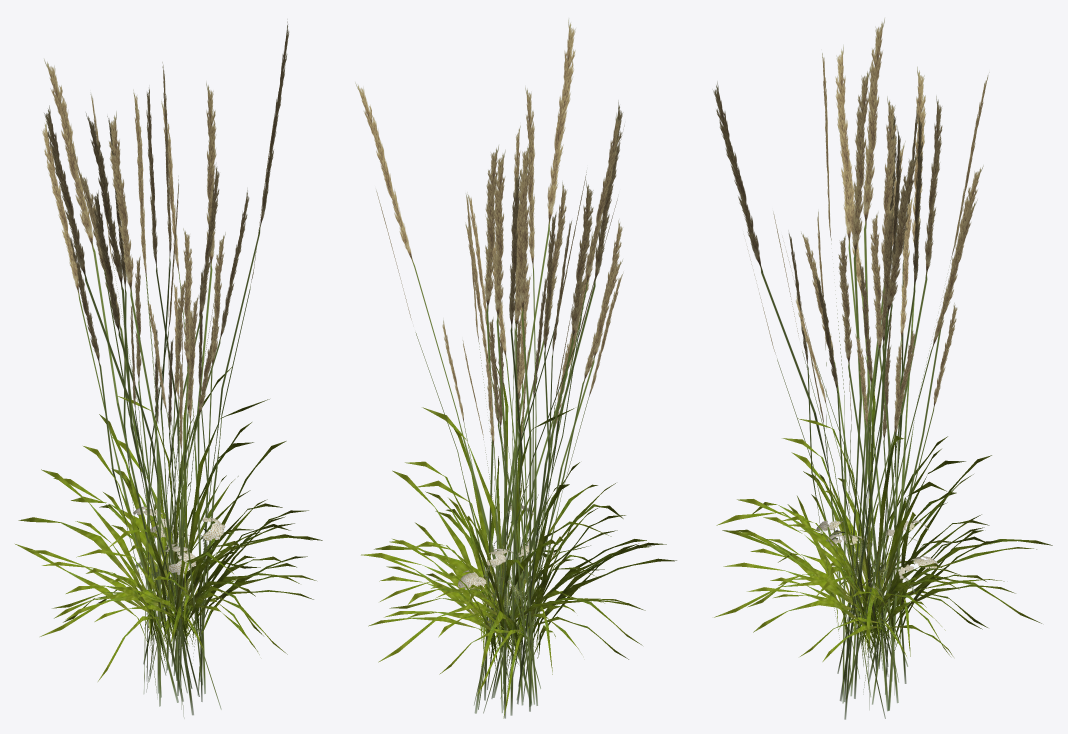
The model's file is vegetation_10.glb.
3 renders of one model, left to right at view 1: azimuth 30°, elevation 25°; view 2: azimuth 150°, elevation 25°; view 3: azimuth 270°, elevation 25°, orthographic. The views are drawn at different scales.
Parts seen in each view (by area): view 1: prototype_080, prototype_081; view 2: prototype_080, prototype_081; view 3: prototype_080, prototype_081.
Part boxes in pixels (box(x1,y1,x2,y2)): prototype_080: box(15, 21, 322, 718); prototype_081: box(133, 506, 225, 616); prototype_080: box(355, 19, 676, 718); prototype_081: box(458, 505, 554, 633); prototype_080: box(713, 18, 1052, 719); prototype_081: box(815, 520, 937, 633).
Size of the model in its own units: 0.7077 by 1.55 by 0.7629.
Materials: 5 (5 with a texture image).
